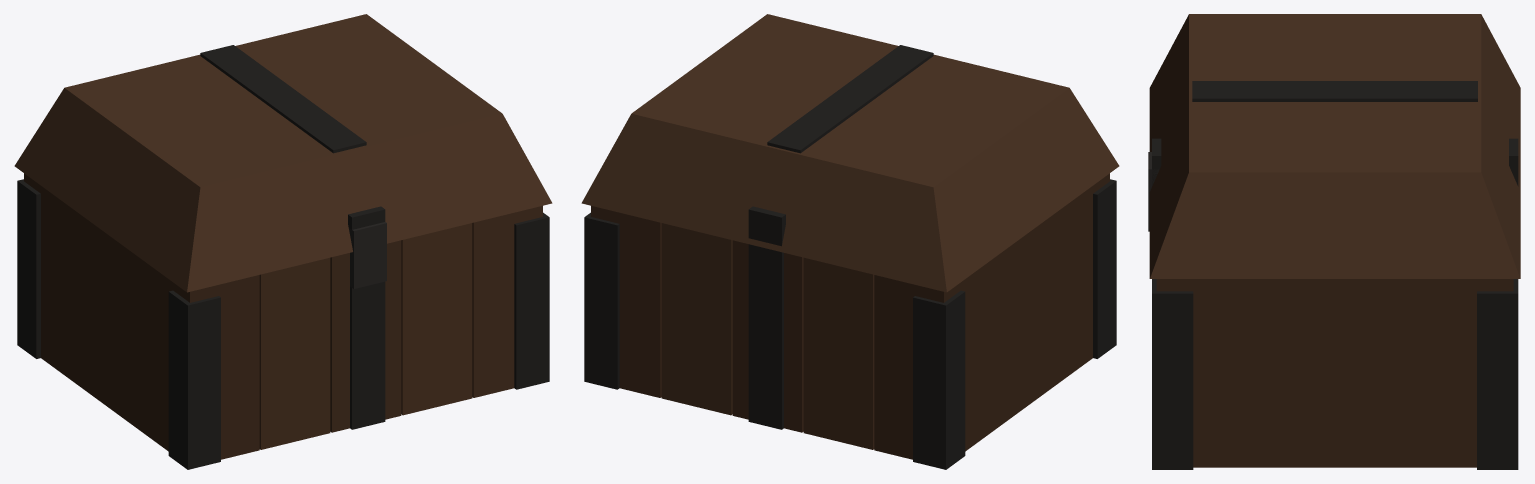
The picture shows the model from 3 angles, left to right: view 1: azimuth 30°, elevation 25°; view 2: azimuth 150°, elevation 25°; view 3: azimuth 270°, elevation 25°; orthographic projection. The views are drawn at different scales.
Parts seen in each view (by area): view 1: storage_box_small; view 2: storage_box_small; view 3: storage_box_small.
Boxes of the visible parts, x1,y1,x2,y2 form: storage_box_small: [14, 14, 552, 469]; storage_box_small: [581, 14, 1119, 469]; storage_box_small: [1148, 14, 1520, 469].
Size of the model in its own units: 0.99 by 0.688 by 0.813.
